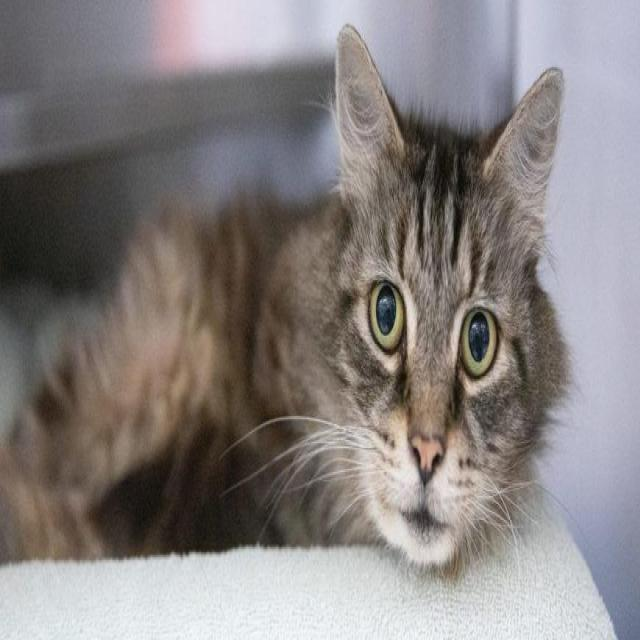Cat: (318, 12, 578, 592)
